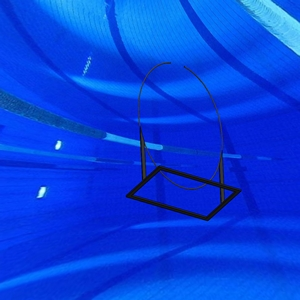circle: (125, 61, 241, 221)
